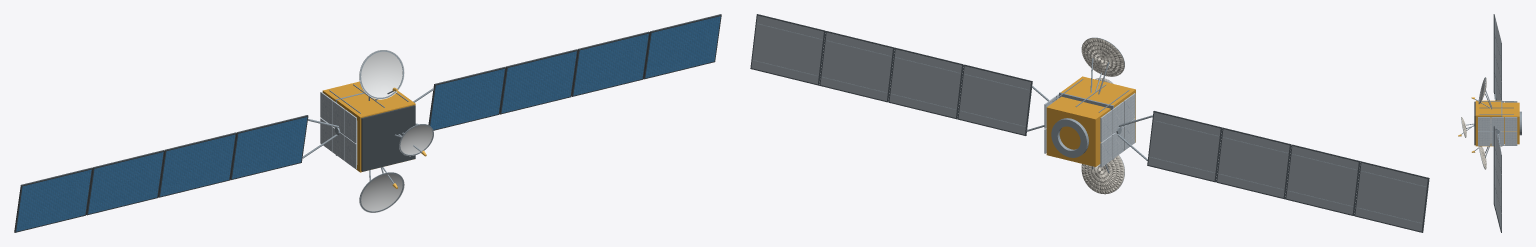
File: sirius-2.glb
The picture shows the model from 3 angles, left to right: view 1: azimuth 30°, elevation 25°; view 2: azimuth 150°, elevation 25°; view 3: azimuth 270°, elevation 25°; orthographic projection. The views are drawn at different scales.
Parts seen in each view (by area): view 1: Solar cell panel (×8), Solar panel frame (×8), Earth-facing deck, Reflector 2 face, Payload module, Reflector 1 face, Reflector 3 face, Service module; view 2: Rear array substrate (×8), Solar panel frame (×8), Service module, Payload module, Reflector 2 insulated back, Reflector 1 insulated back, Launch adapter ring; view 3: Rear array substrate (×8), Radiator bay (×6), Payload module, Solar panel frame (×8), Service module, Reflector 1 insulated back, Earth-facing deck, Reflector 2 face, Launch adapter ring, Reflector 3 insulated back, Blanket closeout seam, Reflector 2 edge (+1 smaller).
Boxes of the visible parts, x1,y1,x2,y2 form: Solar cell panel (×8): (16,16,720,231); Solar panel frame (×8): (14,14,721,232); Earth-facing deck: (361,105,415,171); Reflector 2 face: (359,50,404,99); Payload module: (337,91,415,172); Reflector 1 face: (359,172,404,212); Reflector 3 face: (399,124,433,156); Service module: (322,81,363,126); Rear array substrate (×8): (751,15,1427,231); Solar panel frame (×8): (750,14,1429,232); Service module: (1046,96,1110,166); Payload module: (1061,76,1135,142); Reflector 2 insulated back: (1081,38,1124,76); Reflector 1 insulated back: (1081,155,1124,194); Launch adapter ring: (1051,118,1088,157); Rear array substrate (×8): (1494,15,1501,230); Radiator bay (×6): (1478,117,1517,145); Payload module: (1475,100,1501,146); Solar panel frame (×8): (1493,14,1501,232); Service module: (1502,102,1519,144); Reflector 1 insulated back: (1479,146,1486,169); Earth-facing deck: (1474,101,1475,145); Reflector 2 face: (1478,78,1485,102); Launch adapter ring: (1519,111,1521,135); Reflector 3 insulated back: (1461,117,1466,137); Blanket closeout seam: (1479,107,1513,108); Reflector 2 edge: (1478,77,1485,104).
Bounding box in the file's own units: 28.97 × 6.4 × 4.11.
Materials: 10 (2 with a texture image).
